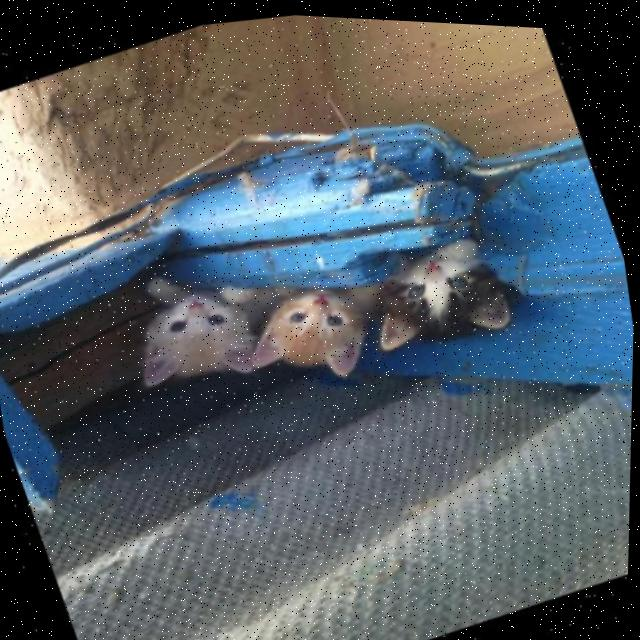Cats: (346, 210, 542, 378), (95, 249, 273, 425), (225, 258, 379, 418)
